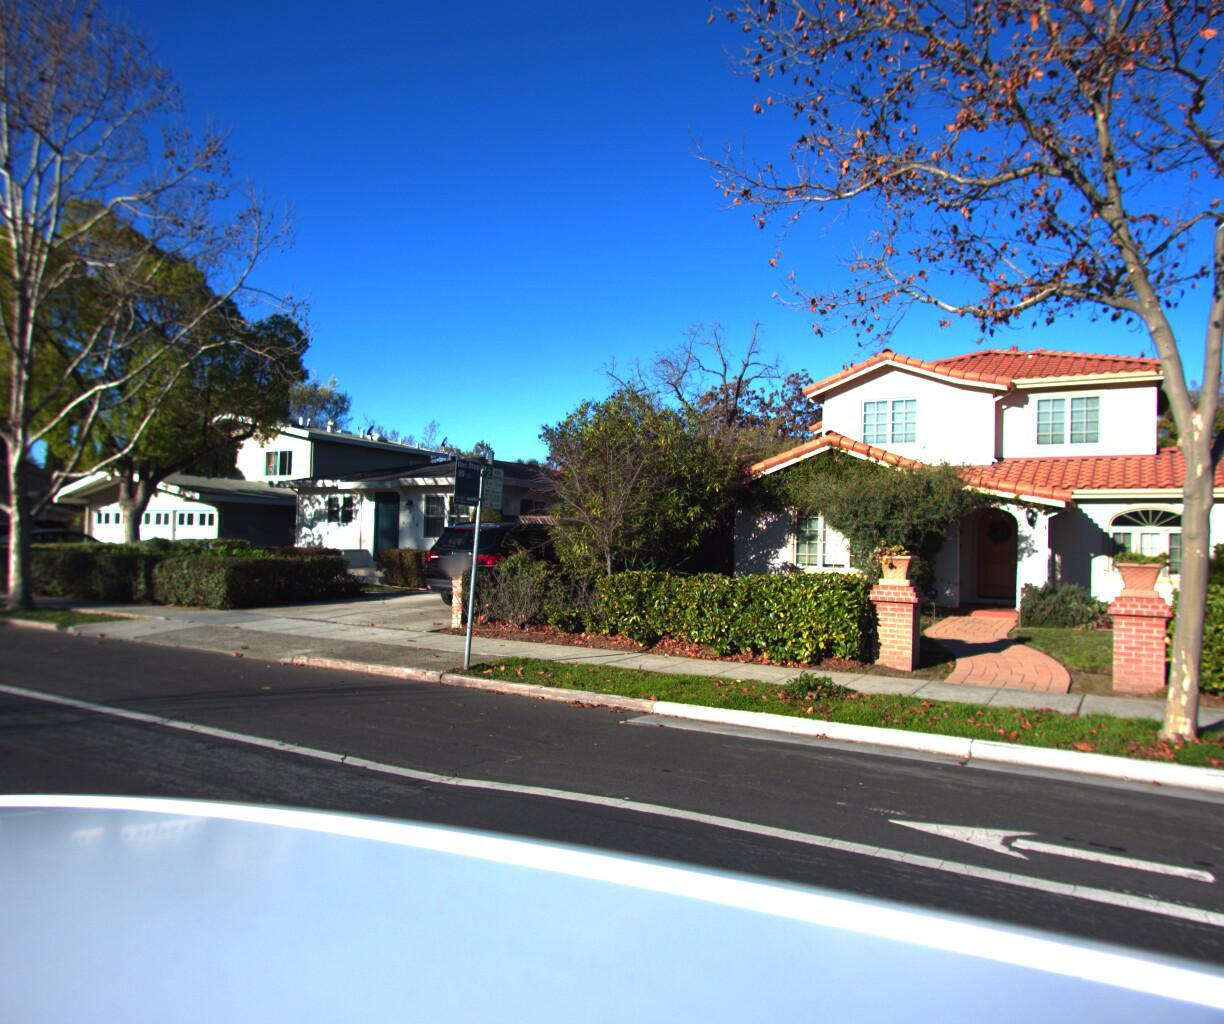car: (410, 515, 608, 616), (0, 529, 138, 585), (0, 522, 95, 581)
